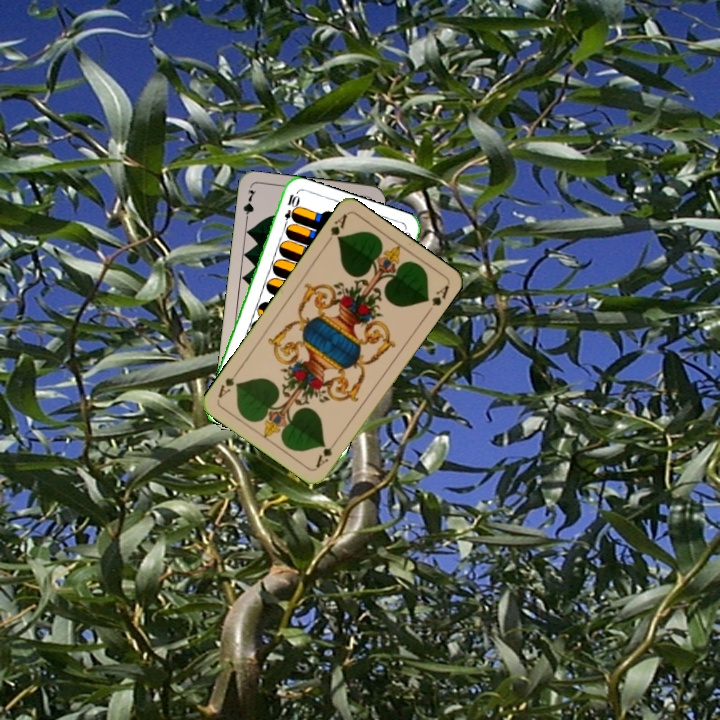E10: (280, 190, 300, 230)
G7: (239, 186, 258, 226)
GA: (322, 210, 349, 247), (312, 435, 340, 470)
